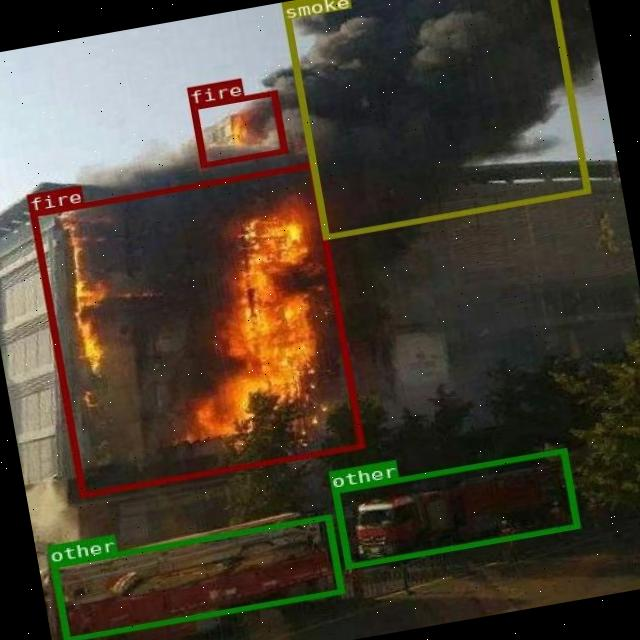fire: (29, 160, 364, 497), (188, 90, 286, 168)
smoke: (280, 0, 589, 238)
